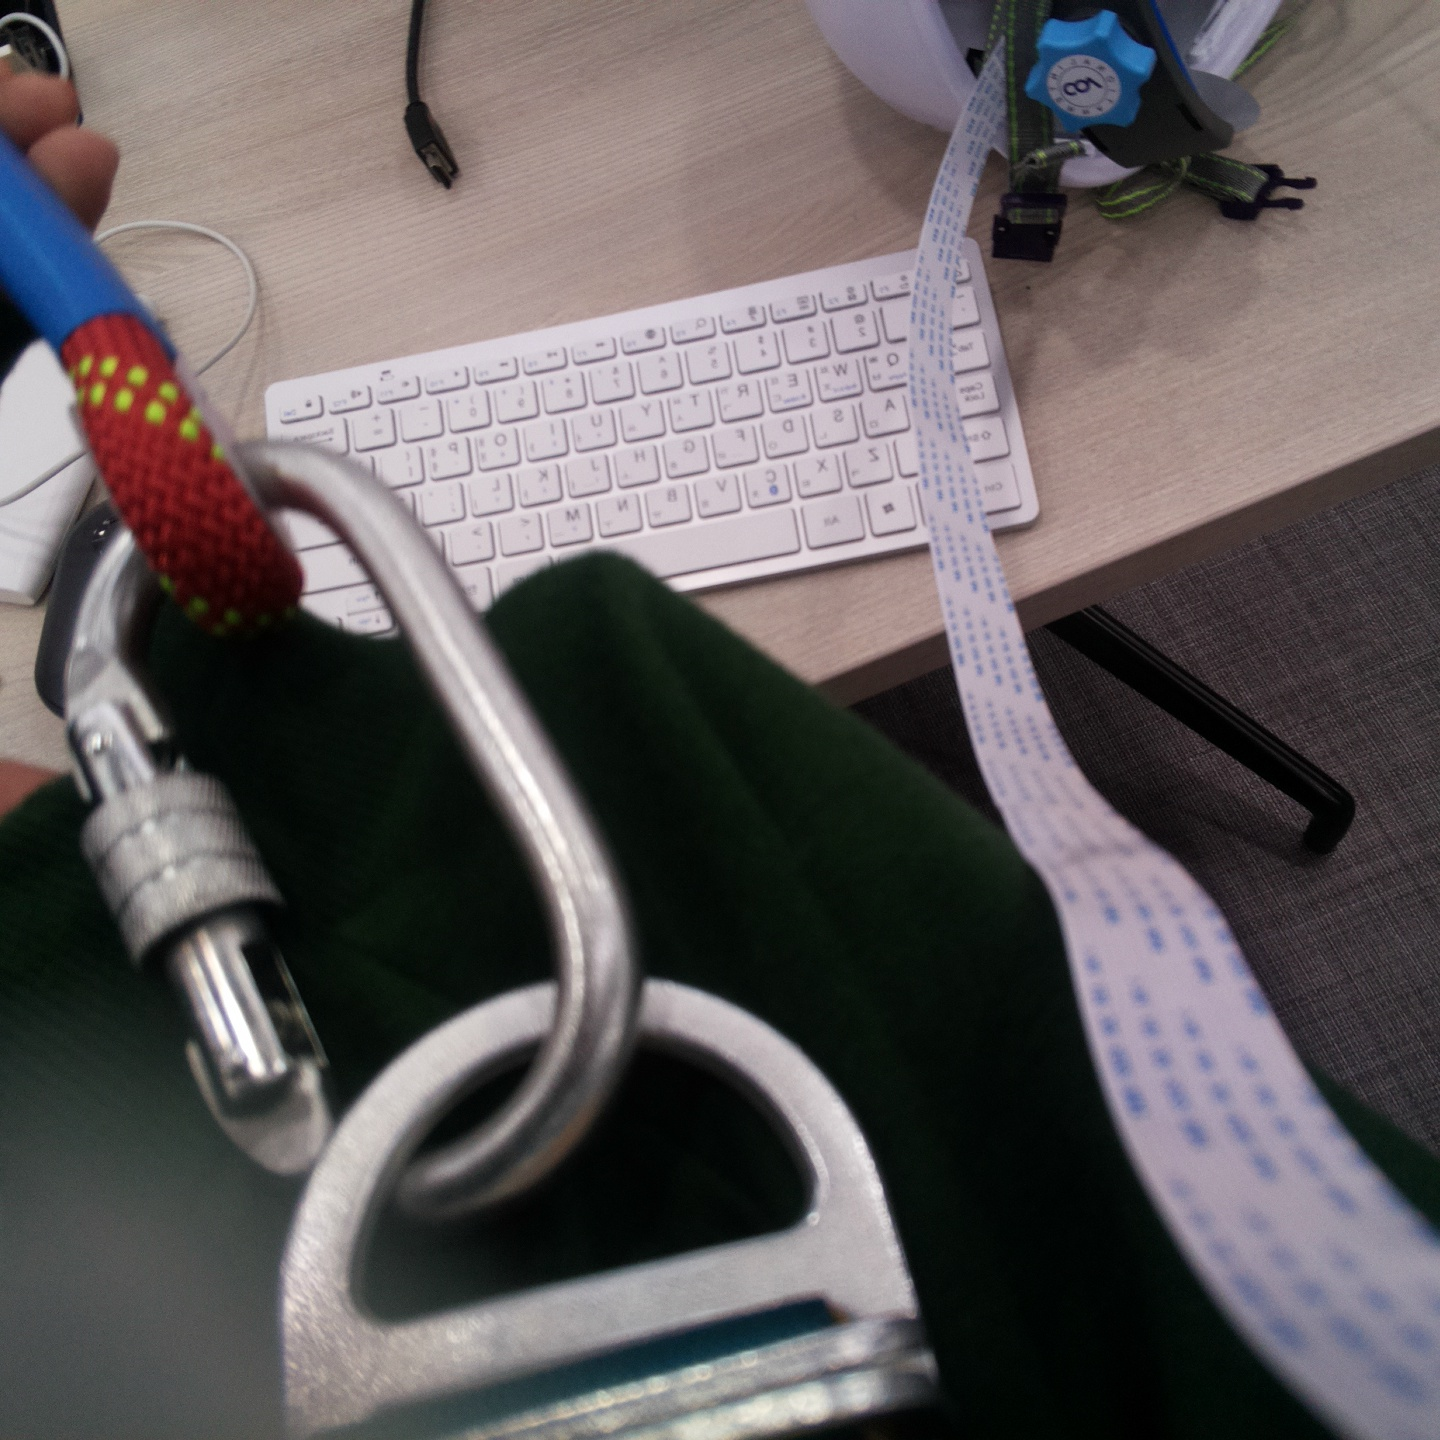SUCCESS: (66, 765, 691, 963)
